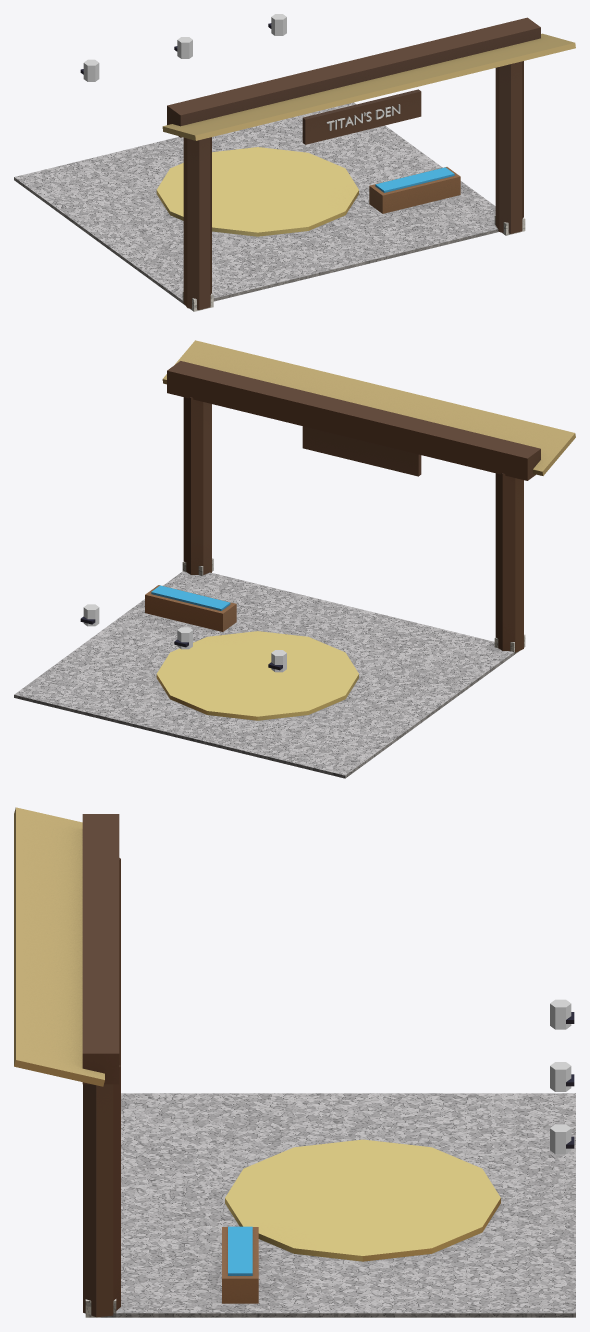
The model's file is home_den_1.fbx.
The picture shows the model from 3 angles, top to bottom: view 1: azimuth 30°, elevation 25°; view 2: azimuth 150°, elevation 25°; view 3: azimuth 270°, elevation 25°; orthographic projection. The views are drawn at different scales.
Parts seen in each view (by area): view 1: home_den_1_body, home_den_1_body_glow; view 2: home_den_1_body, home_den_1_body_glow; view 3: home_den_1_body, home_den_1_body_glow.
Boxes of the visible parts, <box> form: home_den_1_body: <box>14,17,575,311</box>; home_den_1_body_glow: <box>83,14,286,81</box>; home_den_1_body: <box>14,340,575,778</box>; home_den_1_body_glow: <box>83,604,286,672</box>; home_den_1_body: <box>14,807,575,1317</box>; home_den_1_body_glow: <box>550,999,571,1154</box>.
Size of the model in its own units: 3900 by 1972 by 3667.
2 materials, 1 textured.
